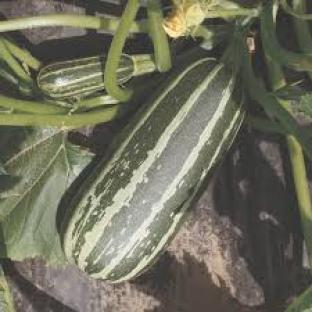Zucchini: (62, 59, 244, 281), (38, 56, 106, 99)
